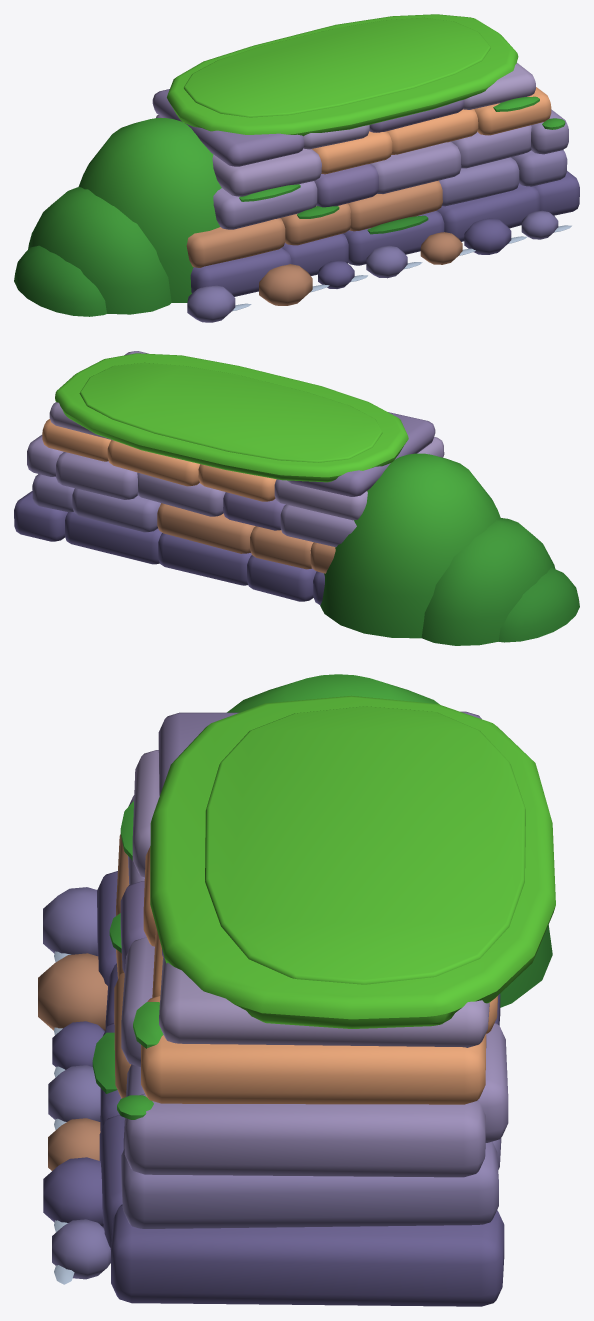
Rendered from cliff_big.glb.
The picture shows the model from 3 angles, top to bottom: view 1: azimuth 30°, elevation 25°; view 2: azimuth 150°, elevation 25°; view 3: azimuth 270°, elevation 25°; orthographic projection. The views are drawn at different scales.
Parts seen in each view (by area): view 1: cliff_big; view 2: cliff_big; view 3: cliff_big.
Part boxes in pixels (x1,y1,x2,y2): cliff_big: (14, 14, 579, 322); cliff_big: (14, 351, 579, 645); cliff_big: (38, 674, 555, 1306).
Size of the model in its own units: 45.02 by 13.11 by 19.83.
